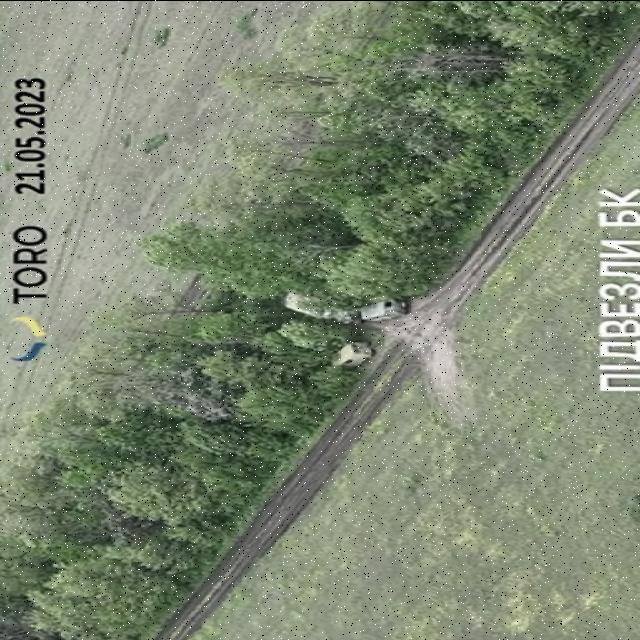CAR: (324, 341, 378, 370), (355, 298, 409, 322)
TRUCK: (278, 288, 358, 324)
